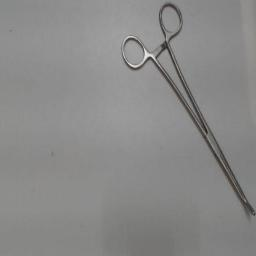Lahey Forceps: (118, 0, 254, 220)
